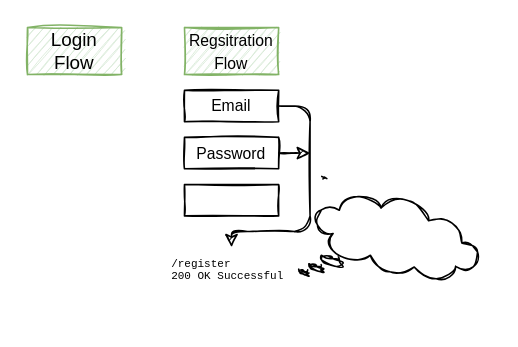
Image size: 518x347. Some labels were removed from this diagram. Here are the shapes that lost their labels. From the top down, the centre of each, then its label:
At point (231, 199): "Confirm Password".
At point (393, 247): "Creates a new entry in the temp table".
